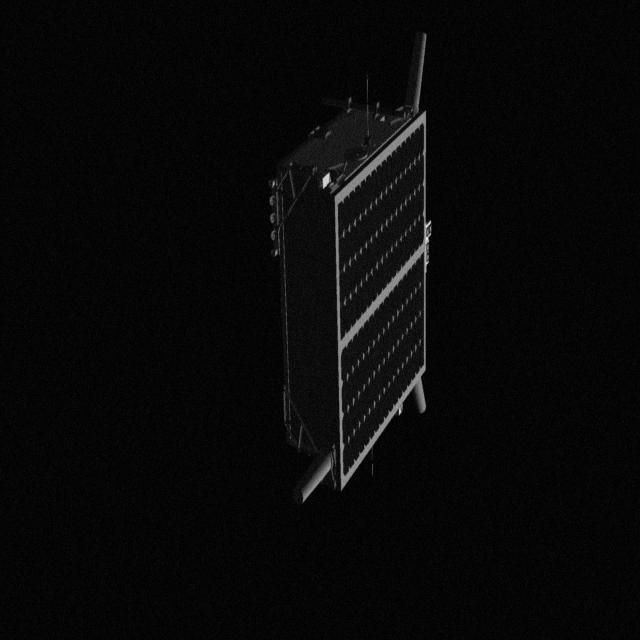medium_debris: (268, 26, 458, 510)
